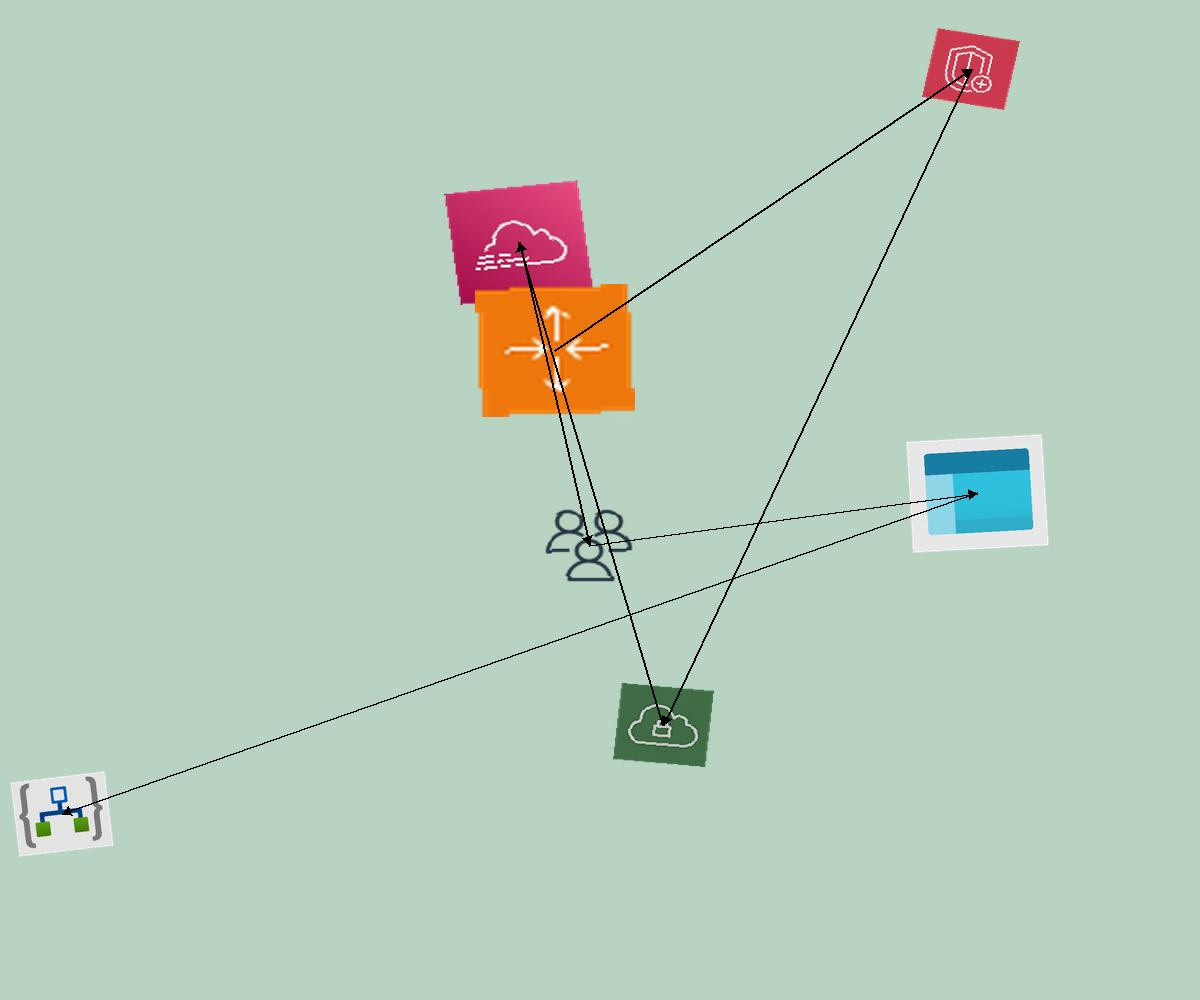AWS-CloudTrail: (444, 180, 594, 305)
AWS-Private_vpc: (613, 683, 714, 767)
AWS-Res_Users: (540, 505, 638, 586)
AWS-Scaling-group: (475, 284, 635, 417)
AWS-Shield: (922, 28, 1020, 110)
Azure_integration-204-Logic-Apps: (10, 771, 114, 857)
Azure_management-portal: (906, 434, 1049, 553)
